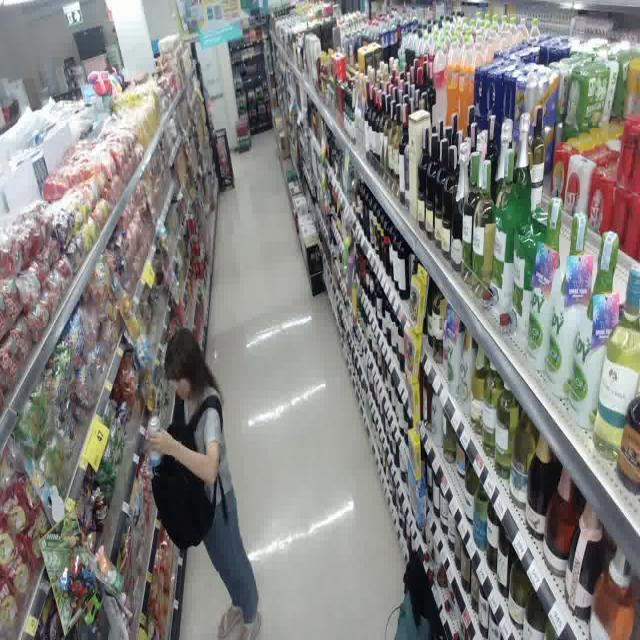pickup: (135, 324, 270, 640)
